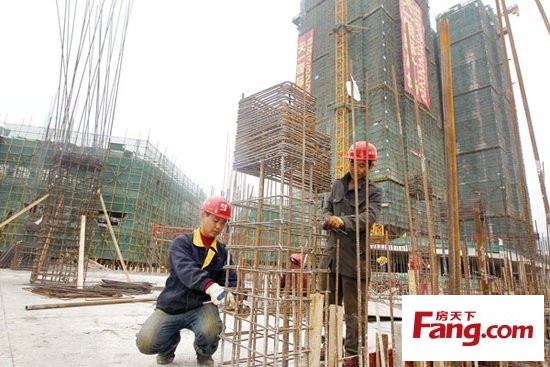red: (198, 194, 231, 237), (344, 140, 377, 178), (284, 252, 301, 272)
